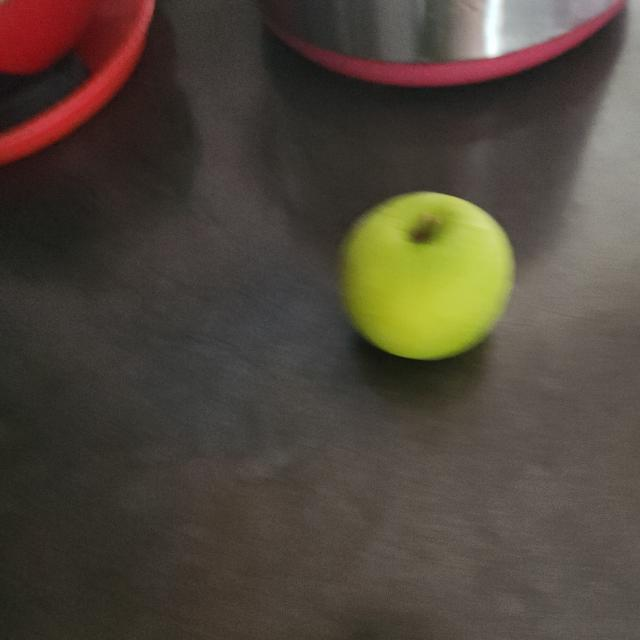apple: (331, 182, 522, 370)
